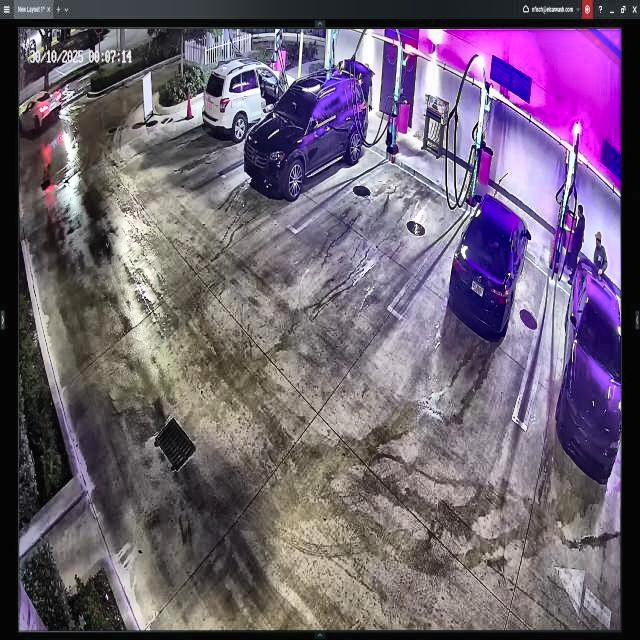Car: (244, 64, 372, 200), (448, 196, 532, 340)
